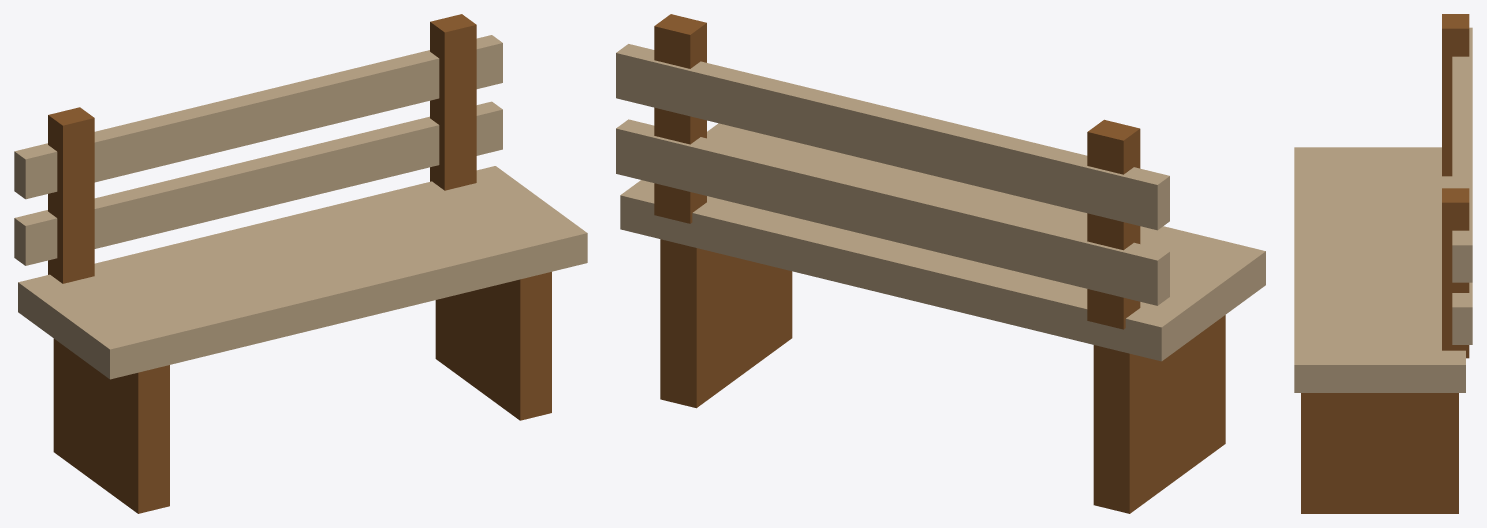
The model's file is bench.glb.
The picture shows the model from 3 angles, left to right: view 1: azimuth 30°, elevation 25°; view 2: azimuth 150°, elevation 25°; view 3: azimuth 270°, elevation 25°; orthographic projection. The views are drawn at different scales.
Parts seen in each view (by area): view 1: bench_mesh; view 2: bench_mesh; view 3: bench_mesh.
Boxes of the visible parts, bbox=[...] form: bench_mesh: bbox=[14, 14, 587, 513]; bench_mesh: bbox=[616, 14, 1265, 513]; bench_mesh: bbox=[1294, 14, 1472, 513].
Size of the model in its own units: 1.5 by 1 by 0.52.
